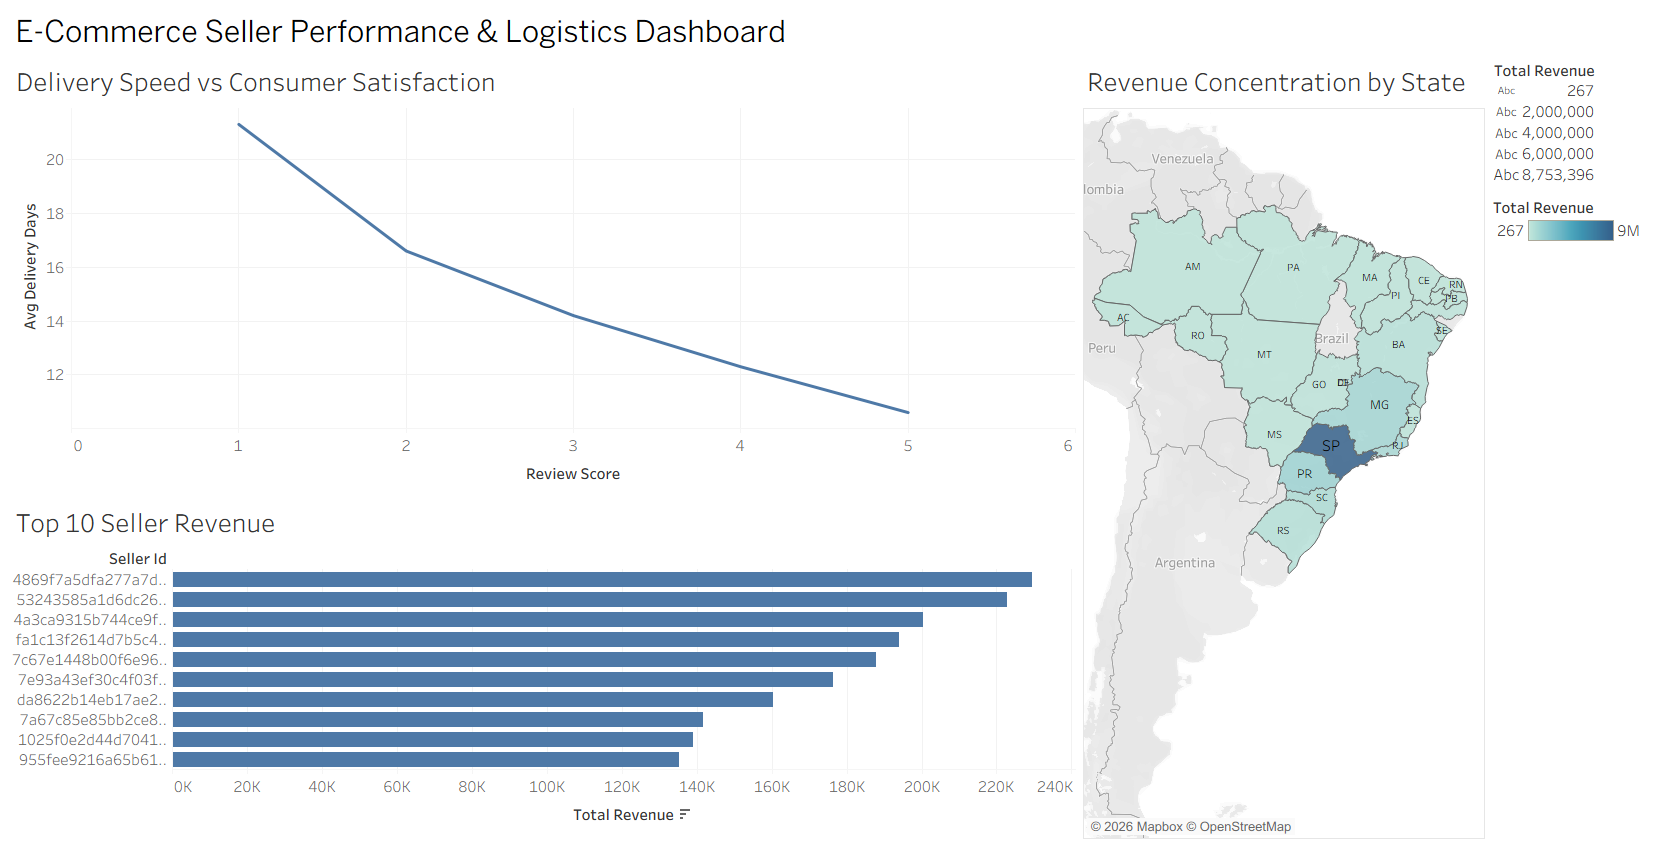

This screenshot's page, from the dashboard's own definition file:
{"tool":"tableau","page":{"name":"Dashboard 1","canvas":[1000,1000],"units":"permille","ordinal":0},"visuals":[{"type":"title","box":[4.8,9.4,990.3,54.1]},{"type":"worksheet","title":"Delivery Speed vs Consumer Satisfaction","mark":"Automatic","rows":["avg_delivery_days"],"cols":["review_score"],"box":[4.8,63.5,646.4,454.8]},{"type":"worksheet","title":"Revenue Concentration by State","mark":"Multipolygon","box":[651.2,63.5,247.4,927.1]},{"type":"legend","title":"Revenue Concentration by State","param":"[federated.1m3t5780i2g4fi1h1idmx0ewrak4].[sum:total_revenue:qk]","box":[898.6,63.5,96.6,158.6]},{"type":"legend","title":"Revenue Concentration by State","param":"[federated.1m3t5780i2g4fi1h1idmx0ewrak4].[sum:total_revenue:qk]","box":[898.6,222.1,96.6,85.8]},{"type":"worksheet","title":"Top Seller Revenue","mark":"Automatic","rows":["seller_id"],"cols":["total_revenue"],"box":[4.8,518.2,646.4,472.4]}]}

Visuals, with their boxes on the dashboard's canvas, which has no fixed pixel size, in thousandths of its width and height (x1, y1, x2, y2). These are canvas units, not pixel positions in the 1657x851 screenshot, which may show the page scaled, cropped or inside an application window:
title: {"left": 5, "top": 9, "right": 995, "bottom": 64}
"Delivery Speed vs Consumer Satisfaction" worksheet: {"left": 5, "top": 64, "right": 651, "bottom": 518}
"Revenue Concentration by State" worksheet (Multipolygon marks): {"left": 651, "top": 64, "right": 899, "bottom": 991}
"Revenue Concentration by State" legend: {"left": 899, "top": 64, "right": 995, "bottom": 222}
"Revenue Concentration by State" legend: {"left": 899, "top": 222, "right": 995, "bottom": 308}
"Top Seller Revenue" worksheet: {"left": 5, "top": 518, "right": 651, "bottom": 991}
